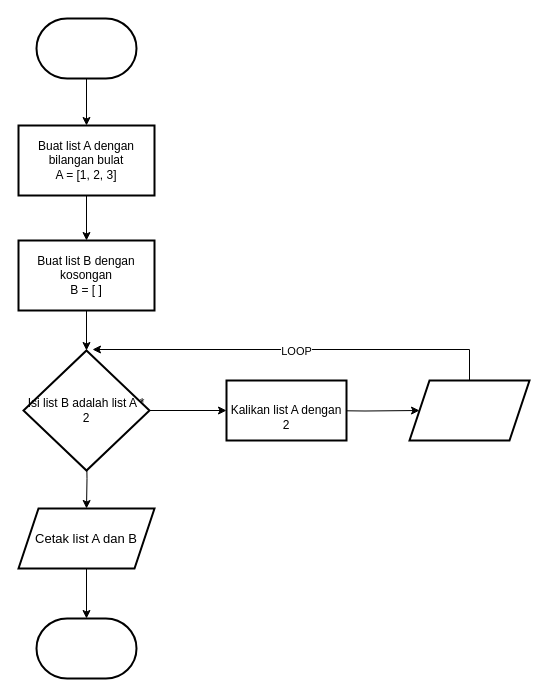
Image size: 547x696. Some labels were removed from this diagram. The box of each missing label's shape, as (x1, y1, x2, y2) in pixels:
Pindah hasil perkalian dari list A ke list B: (408, 379, 530, 441)
STOP: (35, 617, 137, 679)
STRART: (35, 17, 137, 79)
